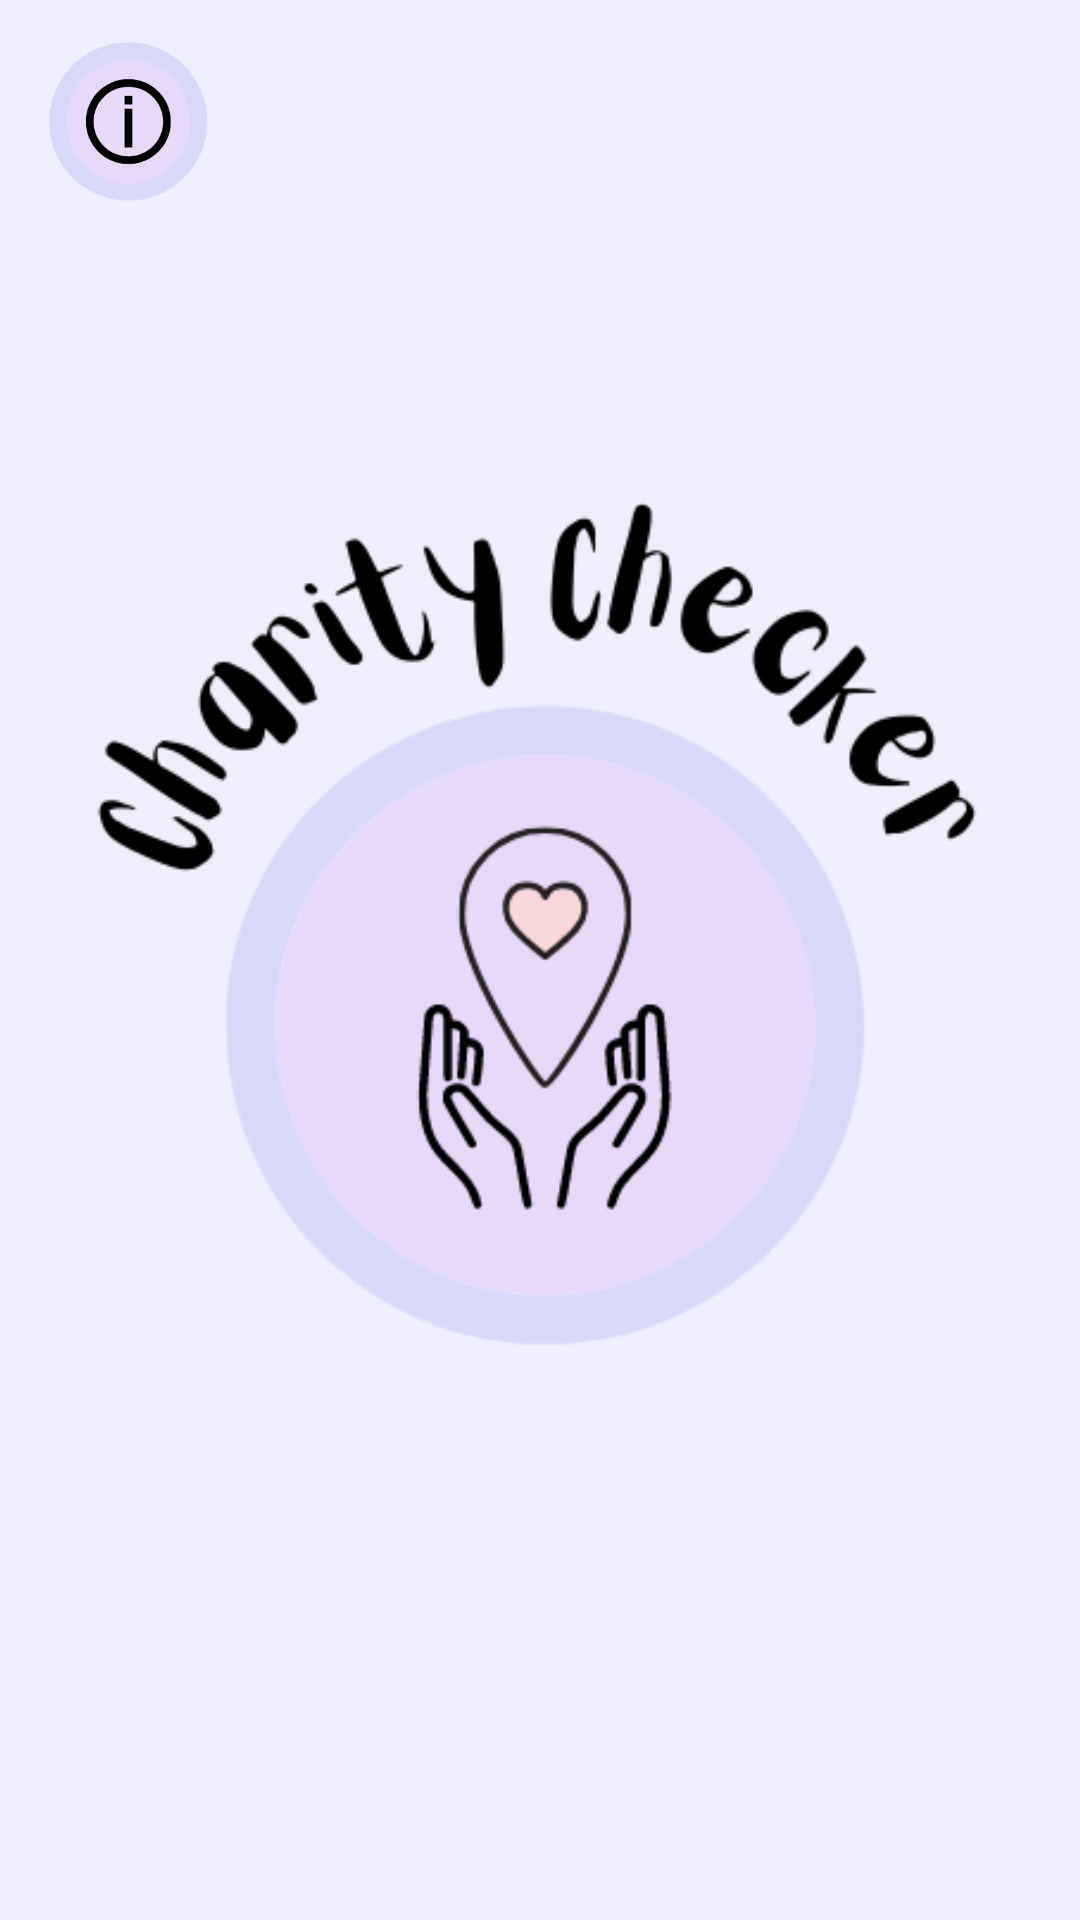

Screen size 1080 × 1920. Icon name, then its center in pixels as [x,y]:
about: [128,121]
